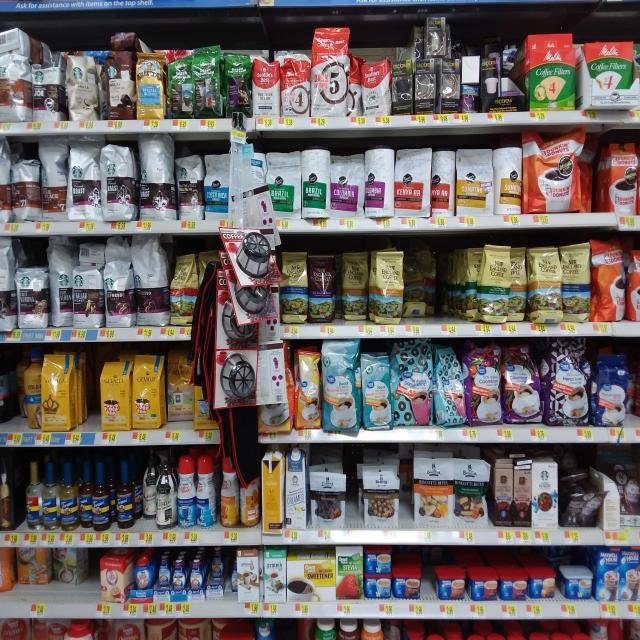unorganised: (14, 547, 98, 605), (348, 53, 392, 118), (405, 252, 442, 317), (560, 480, 606, 529), (339, 252, 371, 322), (168, 252, 199, 324), (48, 242, 73, 327), (166, 356, 193, 431), (581, 137, 606, 214), (18, 357, 41, 430), (1, 25, 48, 59), (508, 247, 529, 322), (138, 457, 155, 529)
